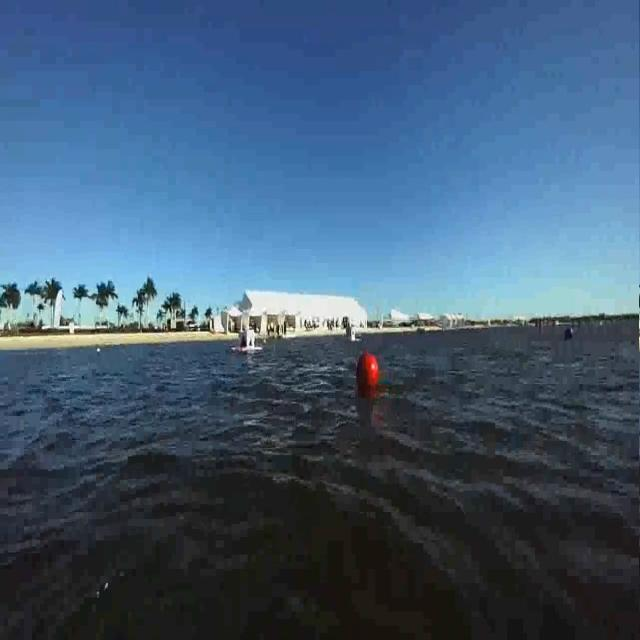blue-buoy: (564, 328, 574, 343)
red-buoy: (355, 354, 378, 391)
